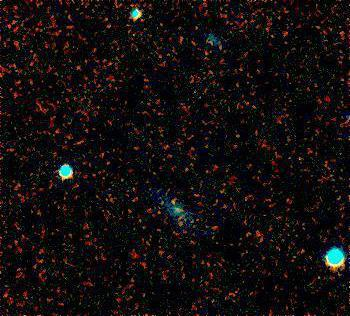star: (157, 187, 187, 217)
